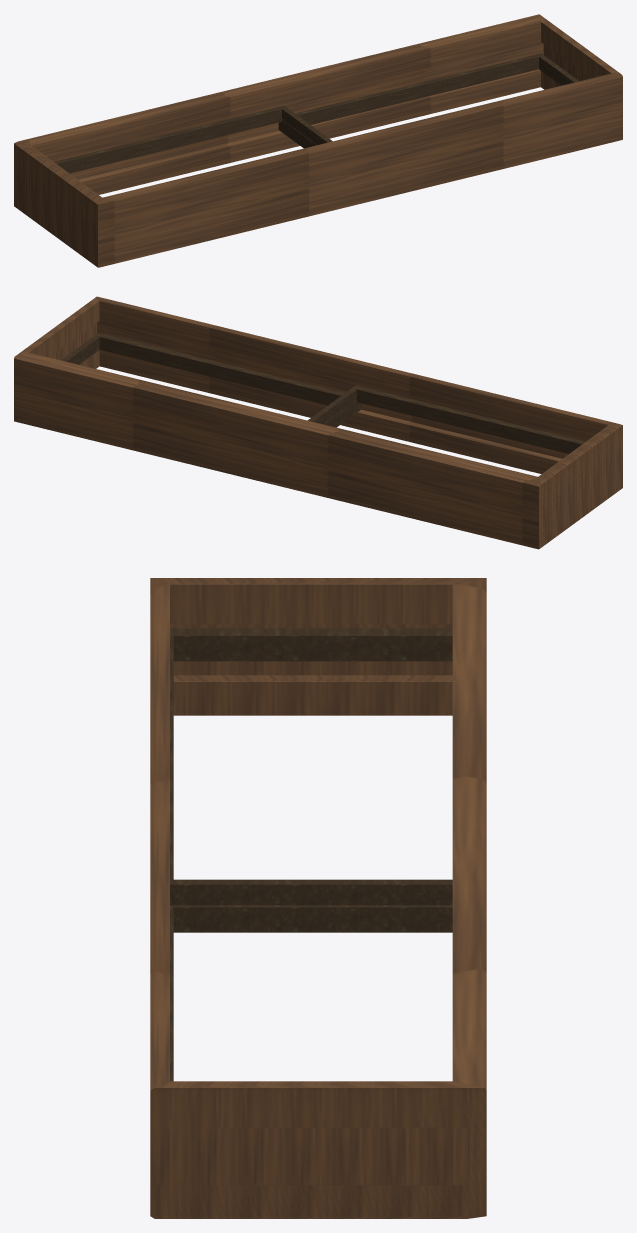
File: window2.fbx
3 views of the same model, one above another, from view 1: azimuth 30°, elevation 25°; view 2: azimuth 150°, elevation 25°; view 3: azimuth 270°, elevation 25° (orthographic). The views are drawn at different scales.
Parts seen in each view (by area): view 1: WindowFrame.001, WindowTop.003, WindowTop.002; view 2: WindowFrame.001, WindowTop.003, WindowTop.002; view 3: WindowFrame.001, WindowTop.002, WindowTop.003.
Part boxes in pixels (left/top/right/bottom): WindowFrame.001: left=14, top=14, right=622, bottom=267; WindowTop.003: left=278, top=53, right=578, bottom=148; WindowTop.002: left=54, top=105, right=332, bottom=173; WindowFrame.001: left=14, top=296, right=622, bottom=549; WindowTop.003: left=61, top=333, right=361, bottom=427; WindowTop.002: left=308, top=385, right=585, bottom=453; WindowFrame.001: left=150, top=578, right=486, bottom=1218; WindowTop.002: left=170, top=628, right=452, bottom=905; WindowTop.003: left=170, top=905, right=452, bottom=1081.
Bounding box in the file's own units: 385 × 45.87 × 107.
